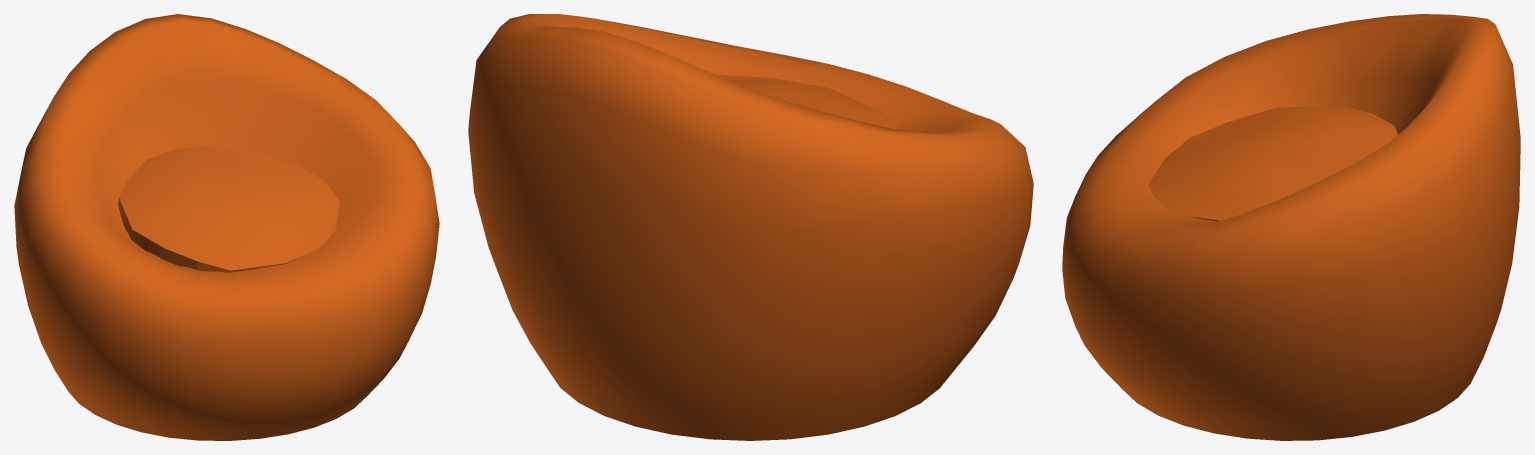
The model's file is AIUE_V1_005_armchair.fbx.
The picture shows the model from 3 angles, left to right: view 1: azimuth 30°, elevation 25°; view 2: azimuth 150°, elevation 25°; view 3: azimuth 270°, elevation 25°; orthographic projection. The views are drawn at different scales.
Parts seen in each view (by area): view 1: AIUE_V1_005_armchair2__2_; view 2: AIUE_V1_005_armchair2__2_; view 3: AIUE_V1_005_armchair2__2_.
Boxes of the visible parts, box(x1,y1,x2,y2) form: AIUE_V1_005_armchair2__2_: box(14, 14, 439, 440); AIUE_V1_005_armchair2__2_: box(468, 14, 1033, 440); AIUE_V1_005_armchair2__2_: box(1062, 14, 1520, 440).
Size of the model in its own units: 94.17 by 69.37 by 85.12.
